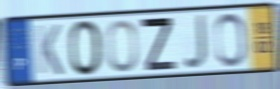J: (181, 12, 209, 71)
K: (34, 23, 65, 77)
O: (67, 18, 104, 78), (213, 11, 249, 69), (105, 18, 140, 75)
Z: (138, 16, 178, 73)
